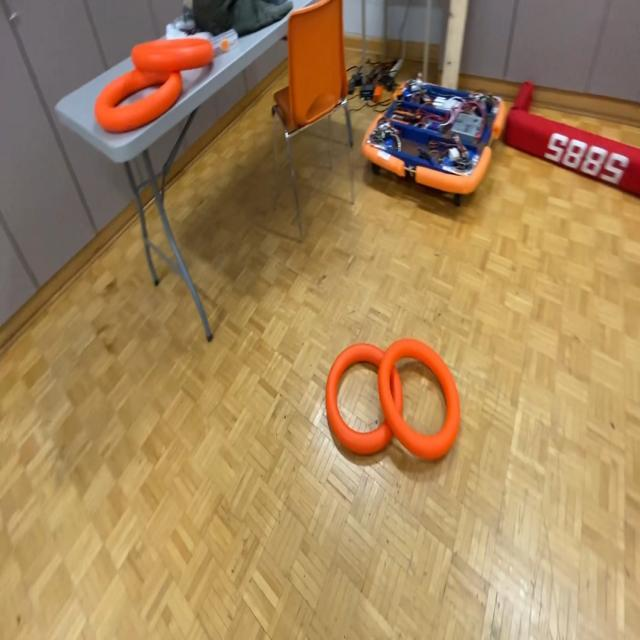note: (378, 338, 462, 468), (326, 340, 404, 458), (95, 66, 187, 134), (131, 36, 213, 74)
robot: (360, 78, 509, 204)
